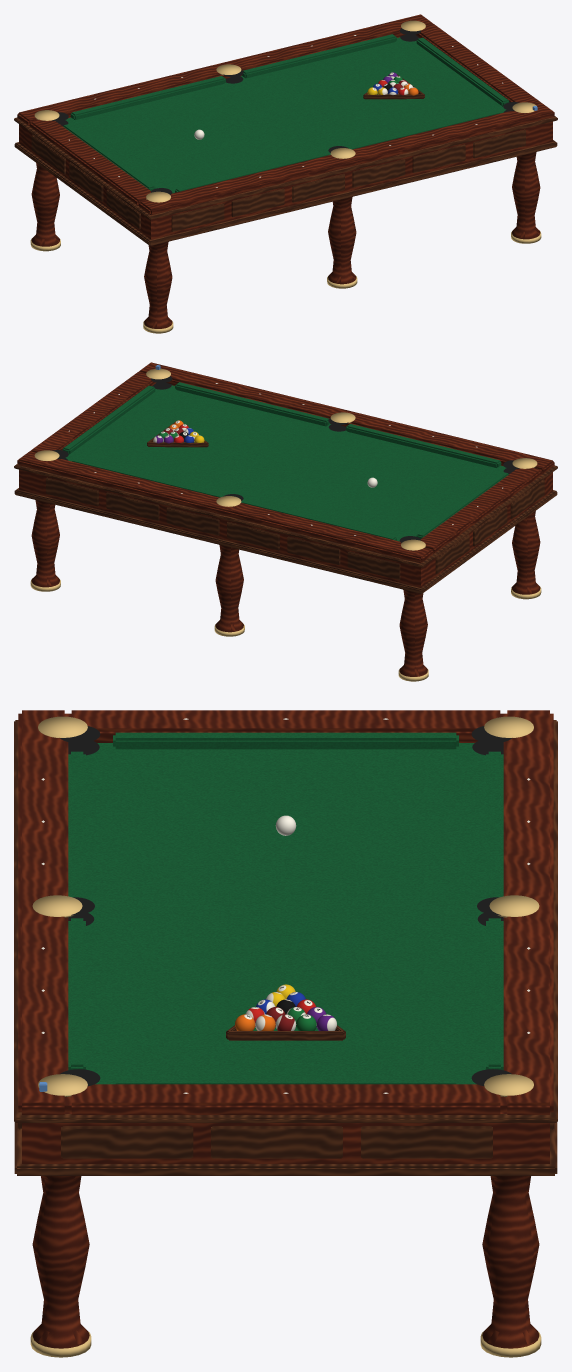
File: MesaBillar.fbx
3 views of the same model, one above another, from view 1: azimuth 30°, elevation 25°; view 2: azimuth 150°, elevation 25°; view 3: azimuth 270°, elevation 25° (orthographic). The views are drawn at different scales.
Visible parts, largest first — view 1: Mesa; view 2: Mesa; view 3: Mesa, Triangulo.
Part boxes in pixels (bbox=[...]): Mesa: bbox=[14, 14, 557, 333]; Mesa: bbox=[14, 362, 557, 681]; Mesa: bbox=[14, 710, 557, 1357]; Triangulo: bbox=[226, 1025, 345, 1040].
Bounding box in the file's own units: 2.64 × 0.822 × 1.52.
